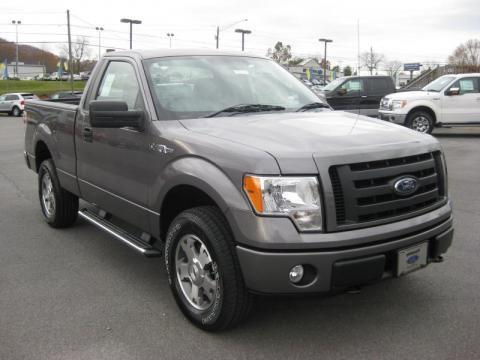Car: (13, 41, 463, 341), (366, 69, 480, 134), (314, 65, 403, 117), (2, 83, 53, 125)
